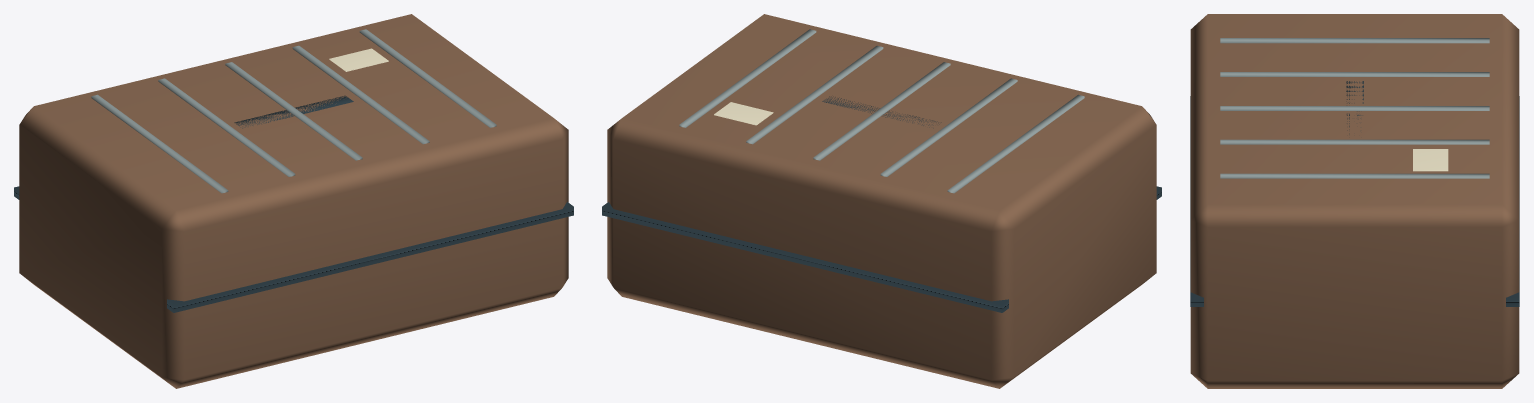
3 renders of one model, left to right at view 1: azimuth 30°, elevation 25°; view 2: azimuth 150°, elevation 25°; view 3: azimuth 270°, elevation 25°, orthographic. The views are drawn at different scales.
Visible parts, largest first — view 1: case, zipper_band, rib_-0.2046, rib_-0.1023, rib_0.0, rib_0.2046, rib_0.1023, handle, id_tag; view 2: case, zipper_band, rib_-0.2046, rib_-0.1023, rib_0.0, rib_0.2046, rib_0.1023, id_tag, handle; view 3: case, rib_-0.2046, rib_0.1023, rib_0.2046, rib_-0.1023, rib_0.0, id_tag, zipper_band.
Part boxes in pixels (box(x1,y1,x2,y2)): case: box(19, 14, 568, 388); zipper_band: box(14, 186, 573, 312); rib_-0.2046: box(91, 94, 228, 193); rib_-0.1023: box(158, 78, 295, 176); rib_0.0: box(225, 62, 362, 160); rib_0.2046: box(359, 29, 496, 127); rib_0.1023: box(292, 45, 429, 144); handle: box(234, 95, 353, 128); id_tag: box(329, 48, 388, 71); case: box(607, 14, 1156, 388); zipper_band: box(602, 186, 1161, 312); rib_-0.2046: box(947, 94, 1084, 193); rib_-0.1023: box(880, 78, 1017, 176); rib_0.0: box(813, 62, 950, 160); rib_0.2046: box(679, 29, 816, 127); rib_0.1023: box(746, 45, 883, 144); id_tag: box(714, 102, 773, 125); handle: box(822, 96, 941, 128); case: box(1190, 14, 1519, 388); rib_-0.2046: box(1220, 38, 1489, 43); rib_0.1023: box(1220, 139, 1489, 144); rib_0.2046: box(1220, 173, 1489, 178); rib_-0.1023: box(1220, 72, 1489, 76); rib_0.0: box(1220, 106, 1489, 110); id_tag: box(1413, 149, 1448, 171); zipper_band: box(1190, 96, 1519, 306).
Bounding box in the file's own units: 0.62 × 0.421 × 0.2625.
